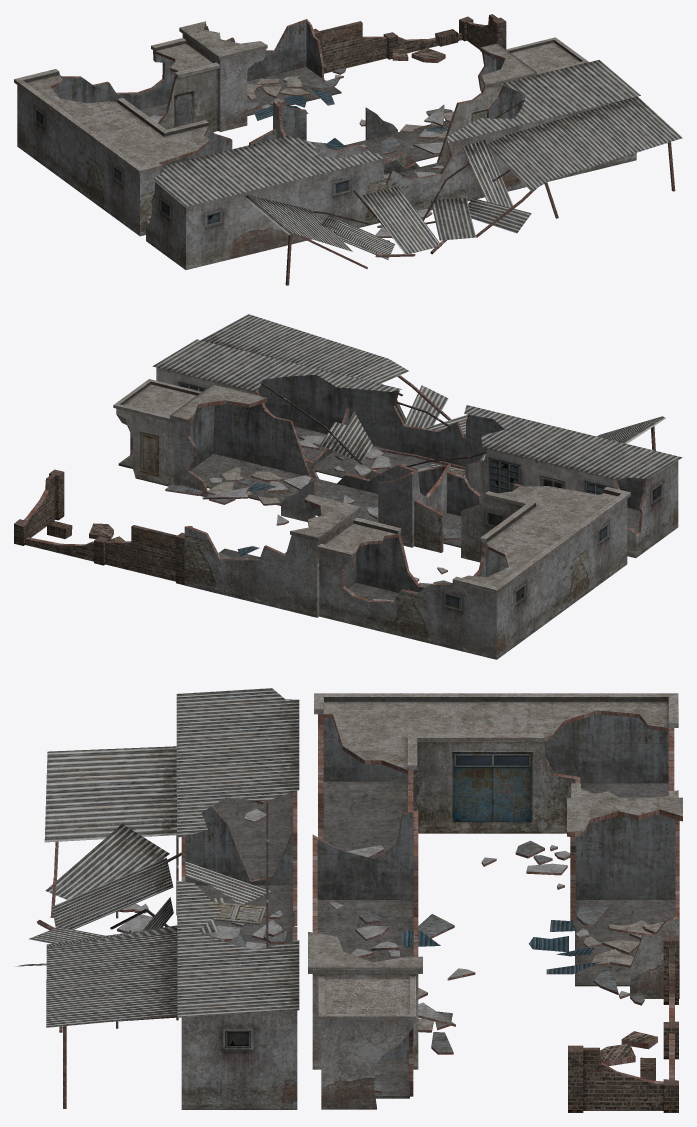
File: buildings_18_ruin.FBX
3 renders of one model, top to bottom at view 1: azimuth 30°, elevation 25°; view 2: azimuth 150°, elevation 25°; view 3: azimuth 270°, elevation 25°, orthographic. The views are drawn at different scales.
Parts seen in each view (by area): view 1: objObject010; view 2: objObject010; view 3: objObject010.
Part boxes in pixels (x1,y1,x2,y2): objObject010: (14,14,682,285); objObject010: (14,314,682,659); objObject010: (14,688,682,1112).
Size of the model in its own units: 2718 by 2373 by 436.
Materials: 2 (2 with a texture image).
